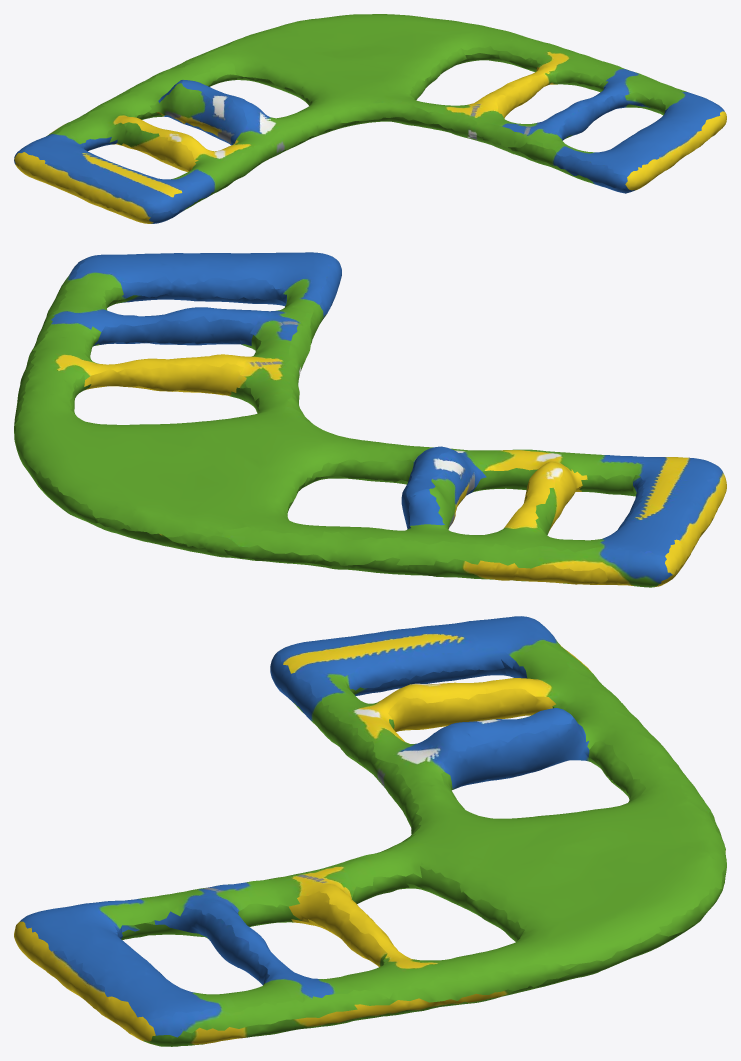
Rendered from bend.glb.
3 views of the same model, one above another, from view 1: azimuth 30°, elevation 25°; view 2: azimuth 150°, elevation 25°; view 3: azimuth 270°, elevation 25° (orthographic). The views are drawn at different scales.
Parts seen in each view (by area): view 1: geometry_0; view 2: geometry_0; view 3: geometry_0.
Part boxes in pixels (x1,y1,x2,y2): geometry_0: (14,14,726,223); geometry_0: (14,252,726,587); geometry_0: (14,616,726,1046).
Size of the model in its own units: 1.19 by 0.0828 by 0.8741.
Materials: 1 (1 with a texture image).
